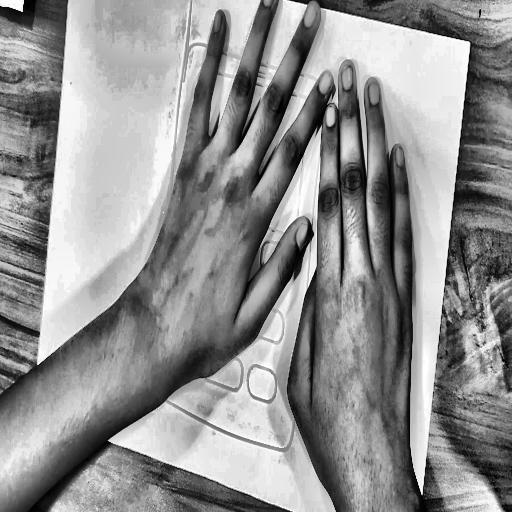bottom_left: (33, 391, 39, 401)
mobile: (138, 0, 345, 466)
top_right: (467, 37, 474, 49)
